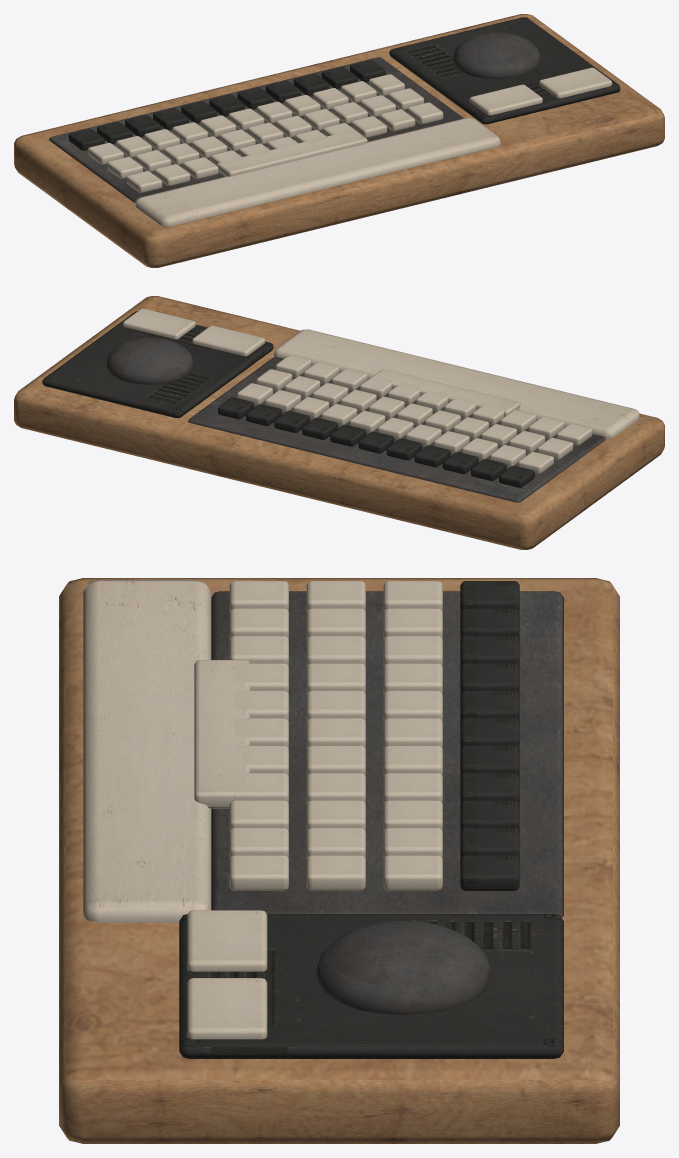
The model's file is SM_FacilityRooms_KeyboardConsole.fbx.
3 views of the same model, one above another, from view 1: azimuth 30°, elevation 25°; view 2: azimuth 150°, elevation 25°; view 3: azimuth 270°, elevation 25° (orthographic). The views are drawn at different scales.
Visible parts, largest first — view 1: SM_FacilityRooms_KeyboardConsole; view 2: SM_FacilityRooms_KeyboardConsole; view 3: SM_FacilityRooms_KeyboardConsole.
Part boxes in pixels (x1,y1,x2,y2): SM_FacilityRooms_KeyboardConsole: [14, 14, 664, 267]; SM_FacilityRooms_KeyboardConsole: [14, 296, 664, 549]; SM_FacilityRooms_KeyboardConsole: [59, 578, 619, 1143].
Size of what is drawn, in the model's own units: 75 by 35 by 9.
